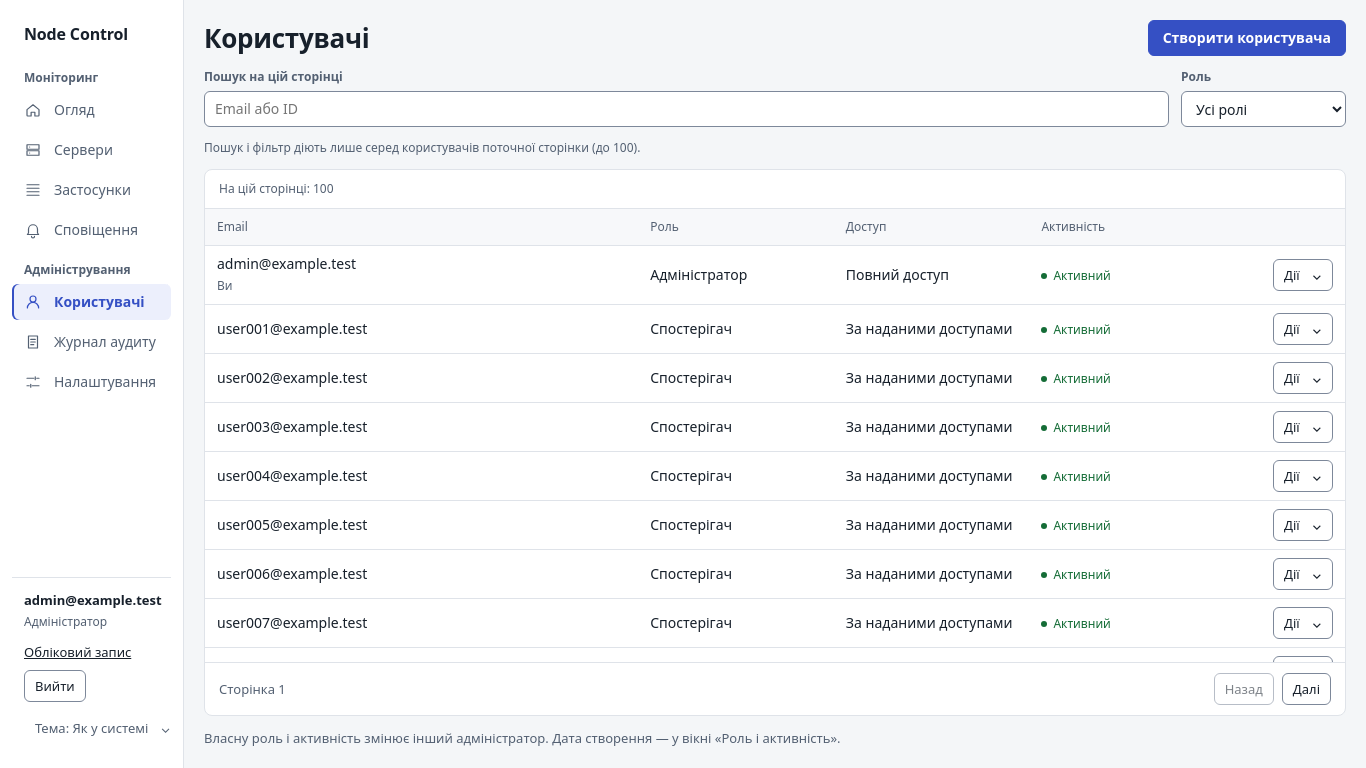
Test: create with a lost answer (P2-1) › the walk is bounded (MAX_SEEK_PAGES): a longer list ends with «checked the first N pages», still unknown
This screenshot has width=1366, height=768.
Click the button "Створити користувача" at point(1247, 38), box [1148,20,1346,56]
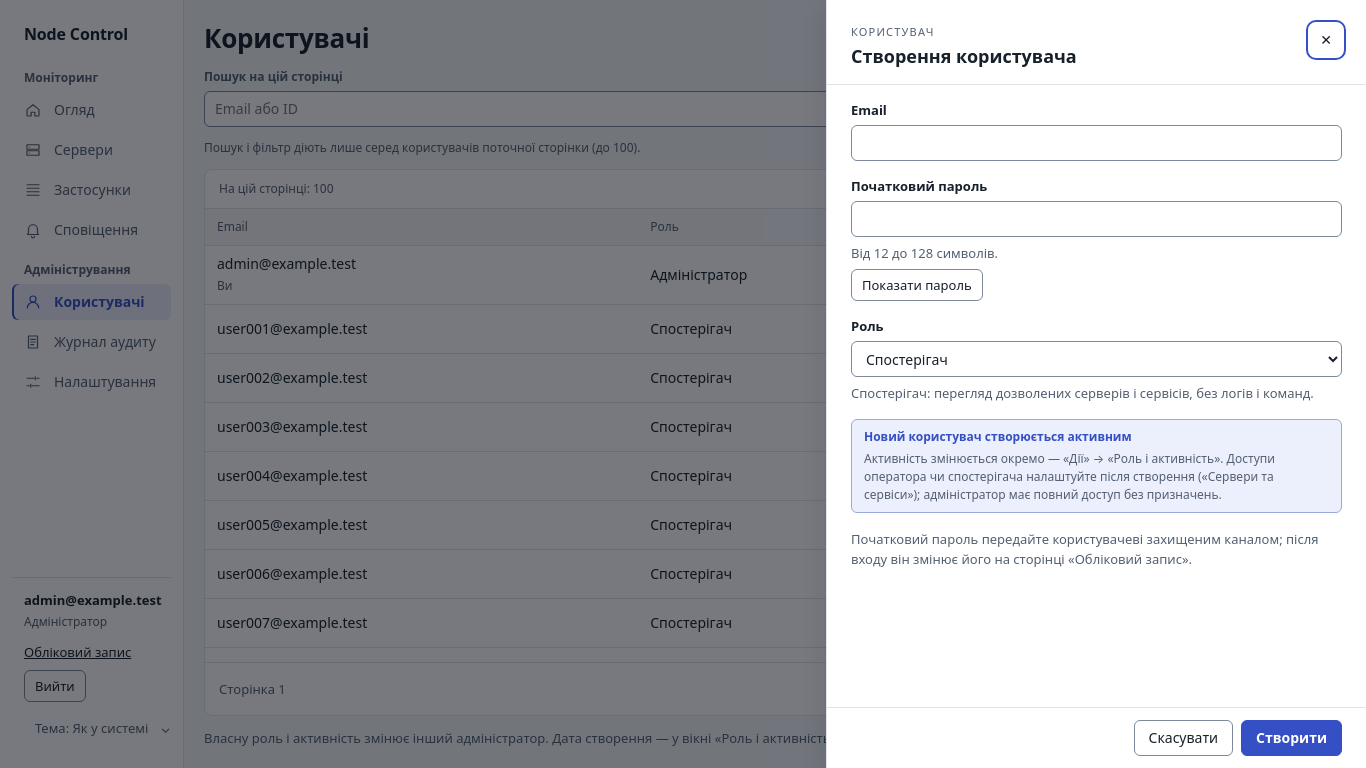
Type "fresh@example.test" into the field labelled "Email" at point(1096, 143), box [851,125,1342,161]
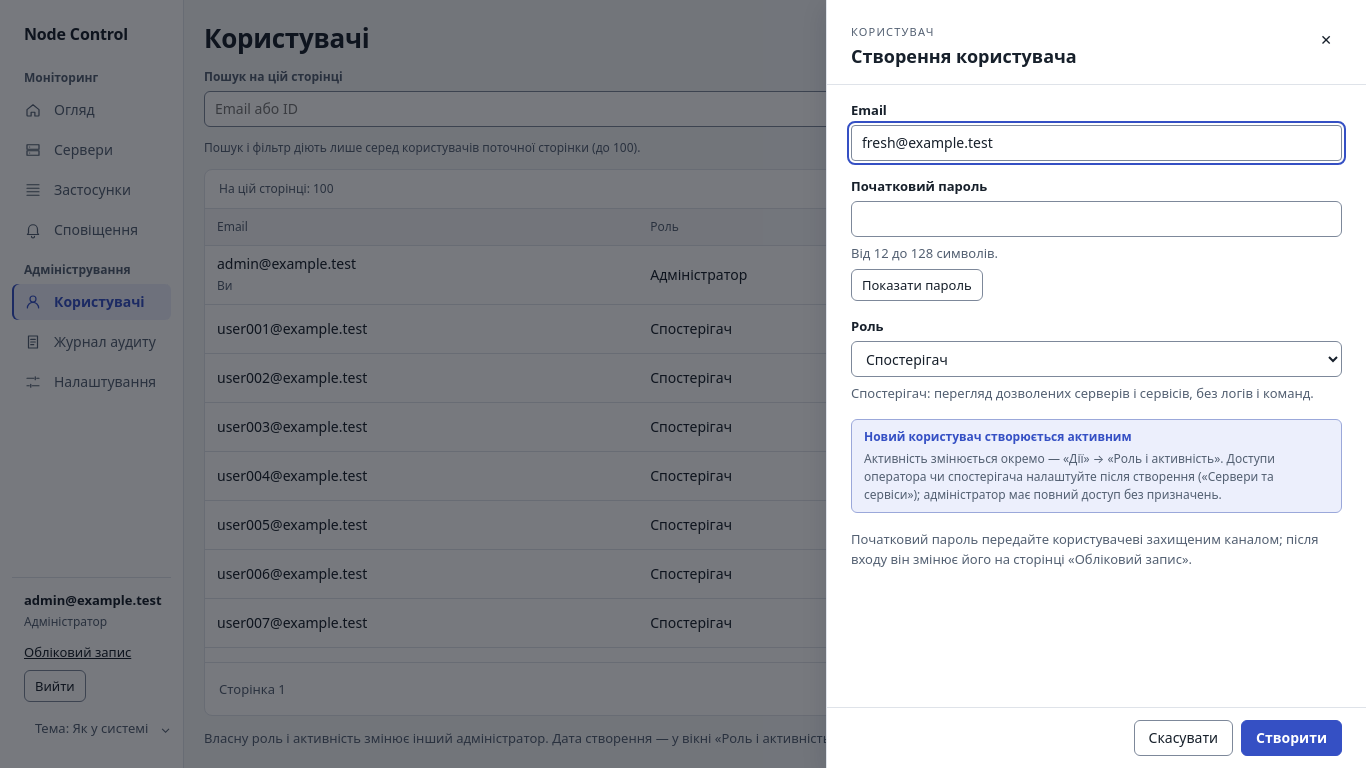
Type "synthetic-Fresh-Passw0rd" into the password field labelled "Початковий пароль" at point(1096, 219), box [851,201,1342,237]
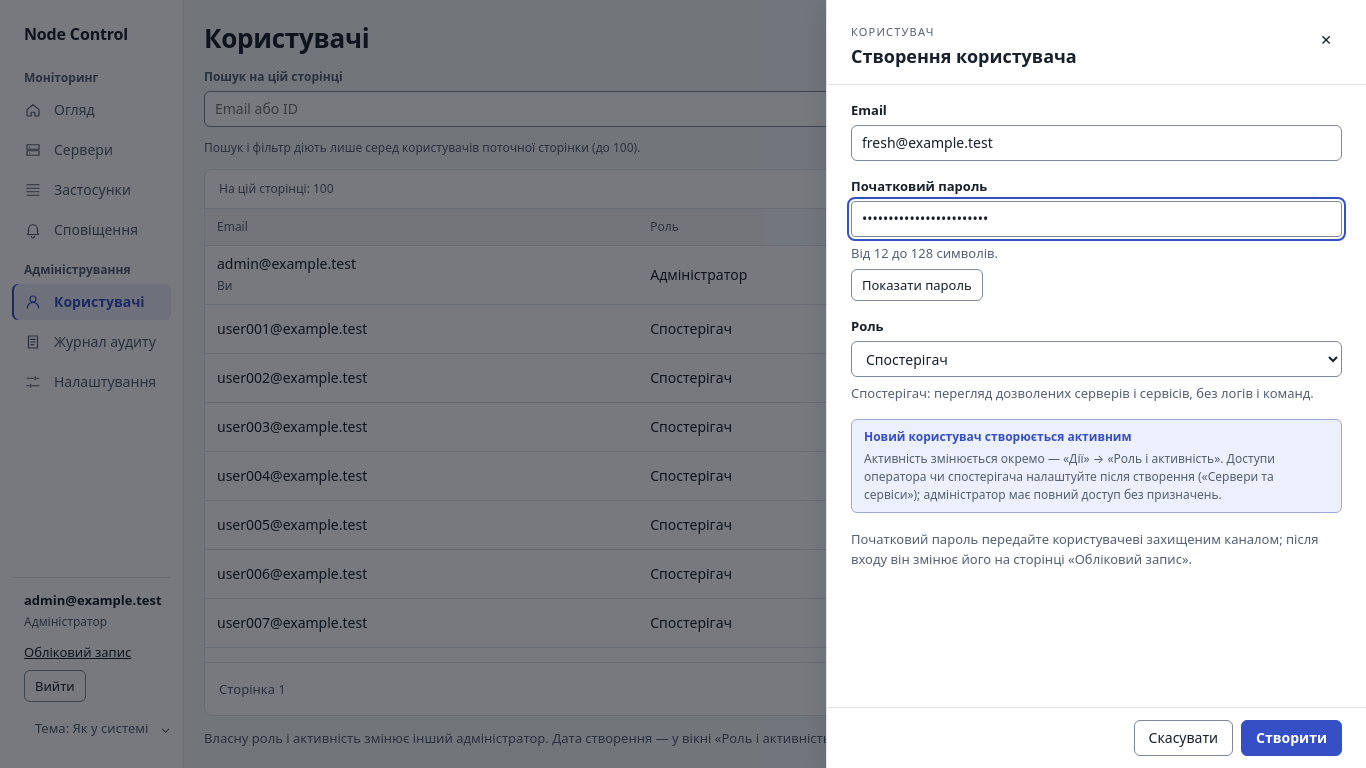
Select "Спостерігач" in the dropdown labelled "Роль" at point(1096, 359), box [851,341,1342,377]
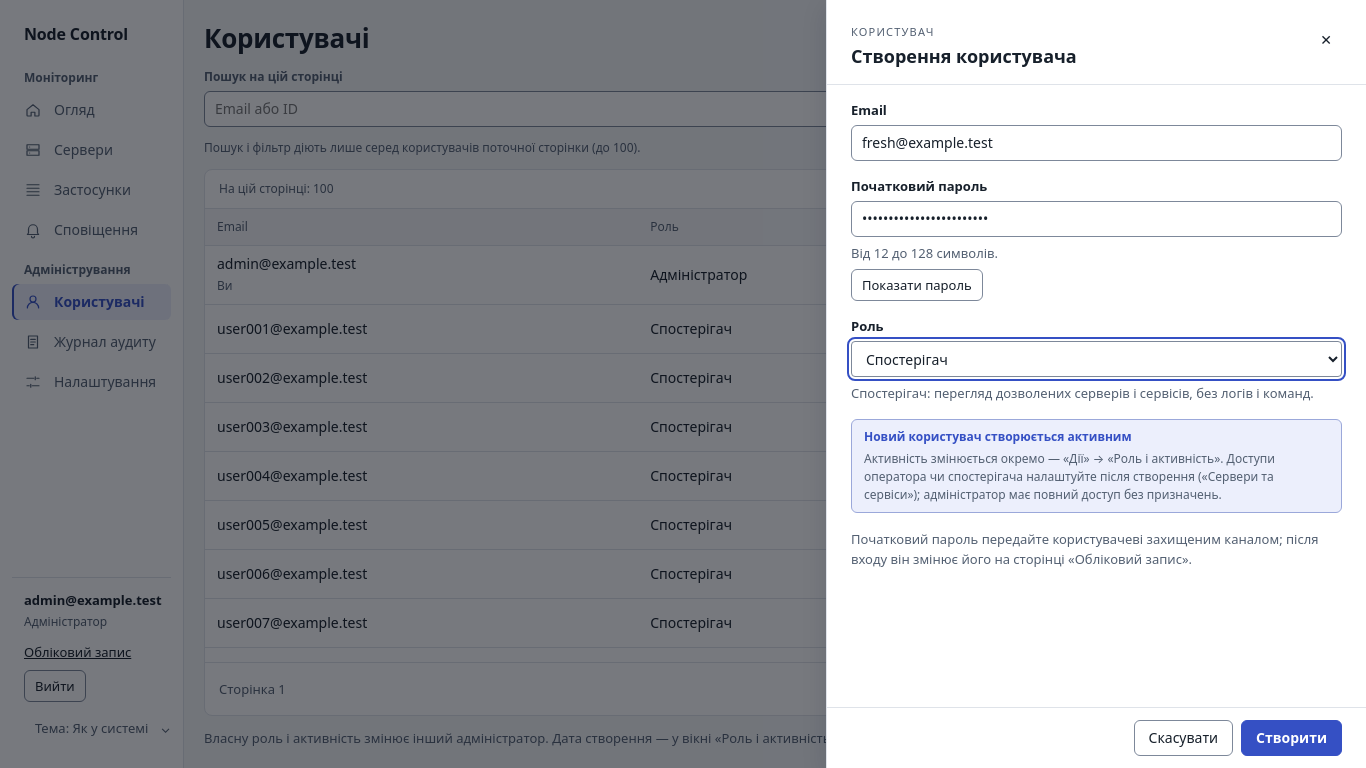
Click the button "Створити" at point(1292, 738), box [1241,720,1342,756]
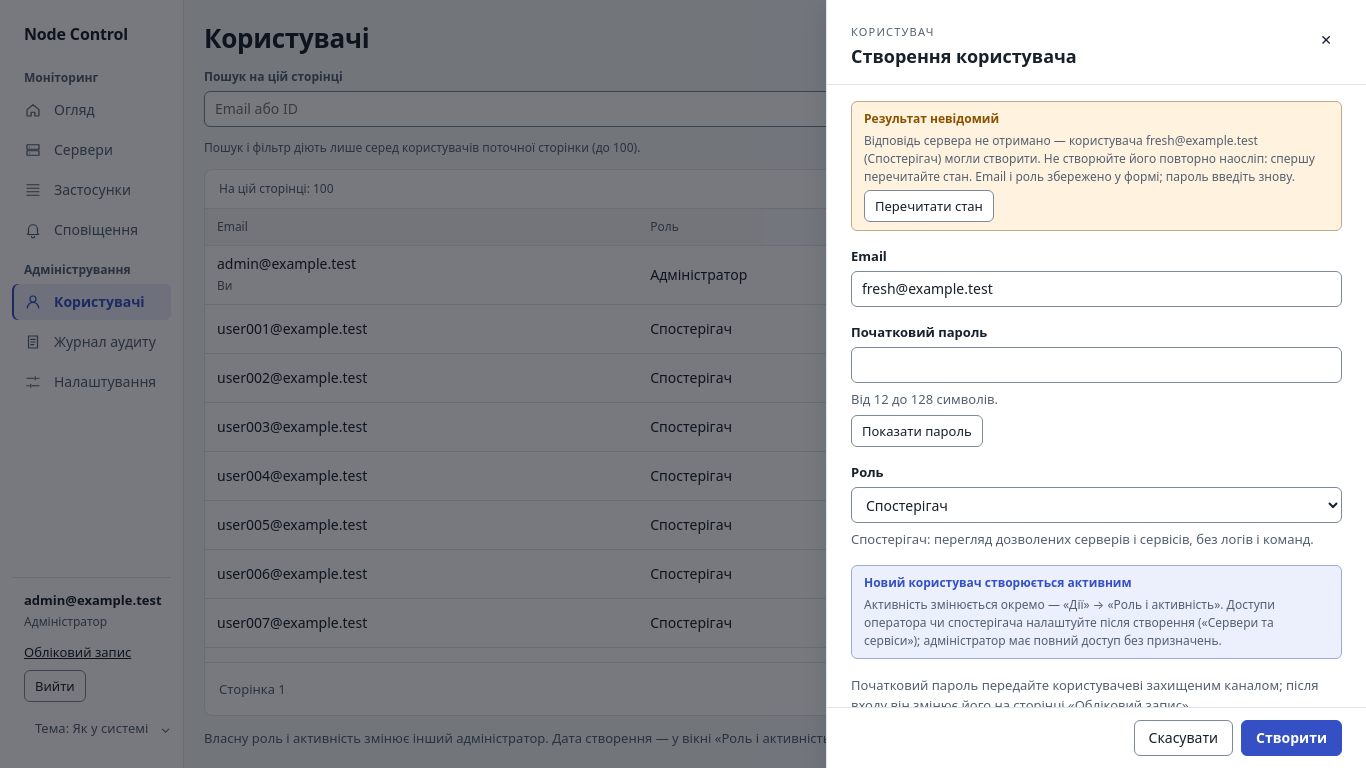
Click the button "Перечитати стан" at point(929, 206), box [864,190,994,222]
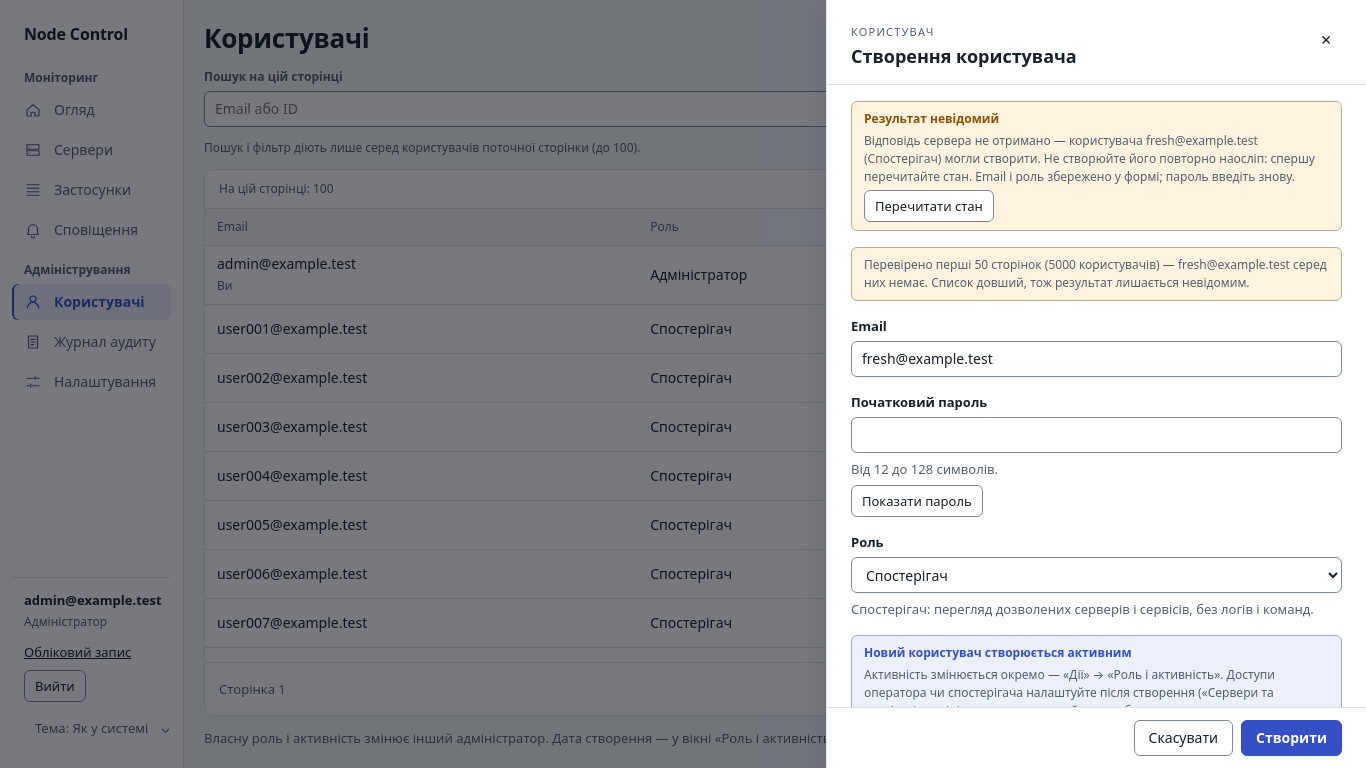
Now the text "Результат невідомий" is shown, box [864,110,999,127]
Now the text "Перевірено перші 50 сторінок" shows "5000", box [864,256,1327,291]
